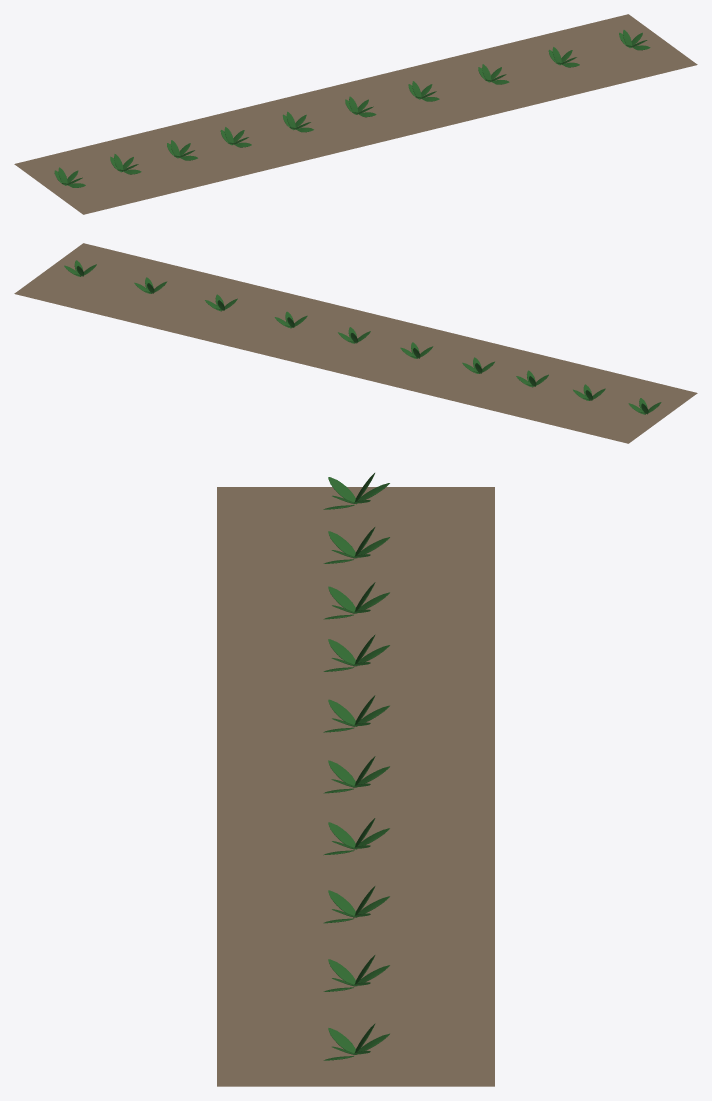
File: hatake.fbx
3 views of the same model, one above another, from view 1: azimuth 30°, elevation 25°; view 2: azimuth 150°, elevation 25°; view 3: azimuth 270°, elevation 25° (orthographic). The views are drawn at different scales.
Parts seen in each view (by area): view 1: pPlane2; view 2: pPlane2; view 3: pPlane2.
Boxes of the visible parts, left/top/right/bottom form: pPlane2: left=14, top=14, right=697, bottom=214; pPlane2: left=14, top=243, right=697, bottom=443; pPlane2: left=217, top=487, right=494, bottom=1086.
Bounding box in the file's own units: 4.9 × 0.1182 × 0.959.
